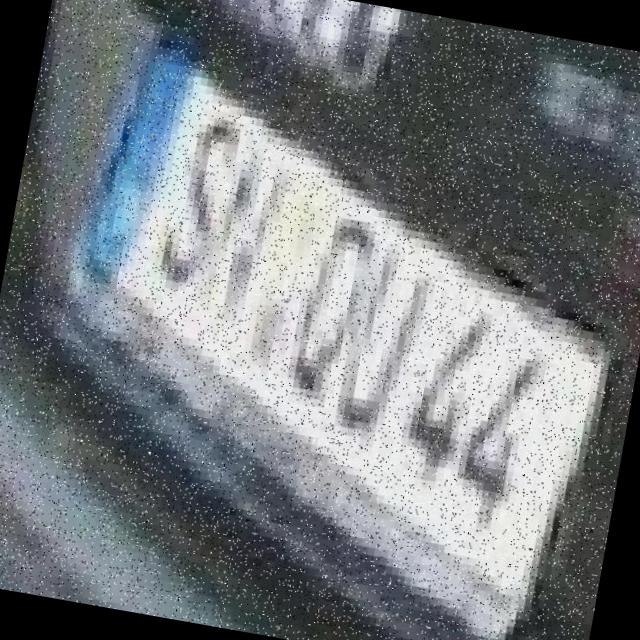LicensePlate: (21, 17, 640, 640)
